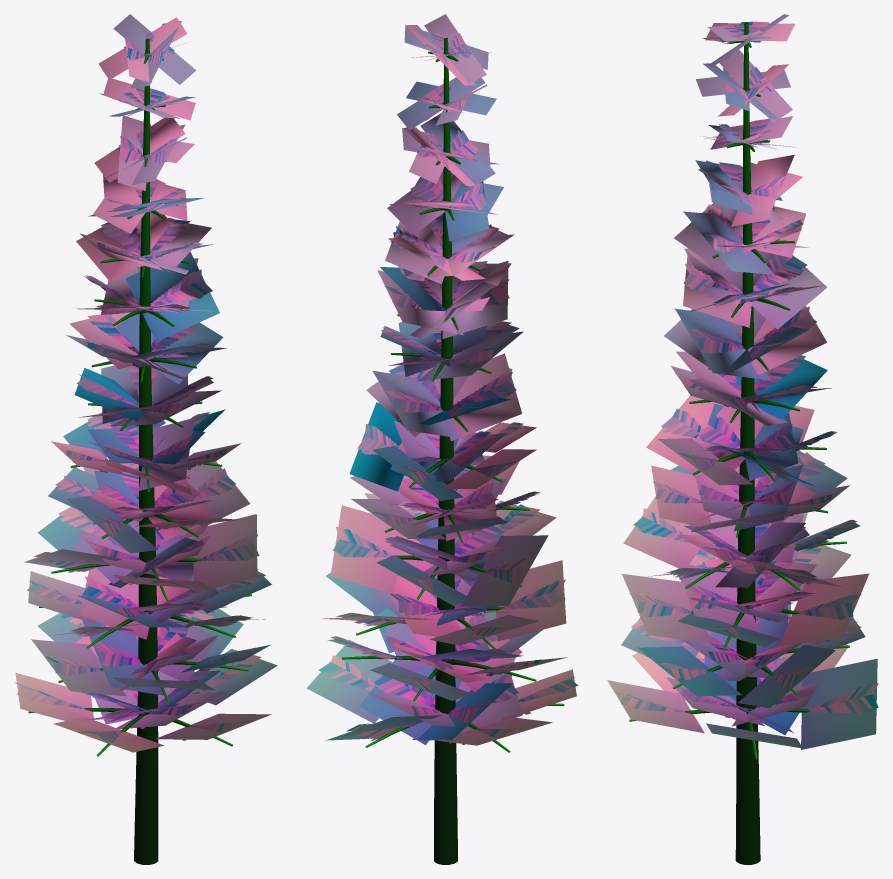
The model's file is araucaria_3.glb.
3 views of the same model, side by side, from view 1: azimuth 30°, elevation 25°; view 2: azimuth 150°, elevation 25°; view 3: azimuth 270°, elevation 25° (orthographic). The views are drawn at different scales.
Visible parts, largest first — view 1: mid, near; view 2: mid, near; view 3: mid, near.
Part boxes in pixels (x1=…): mid: x1=15, y1=14, x2=277, y2=849; near: x1=14, y1=32, x2=265, y2=864; mid: x1=306, y1=14, x2=576, y2=854; near: x1=318, y1=32, x2=578, y2=864; mid: x1=607, y1=14, x2=877, y2=832; near: x1=614, y1=21, x2=878, y2=864.
Size of the model in its own units: 5.75 by 19.66 by 5.72.
